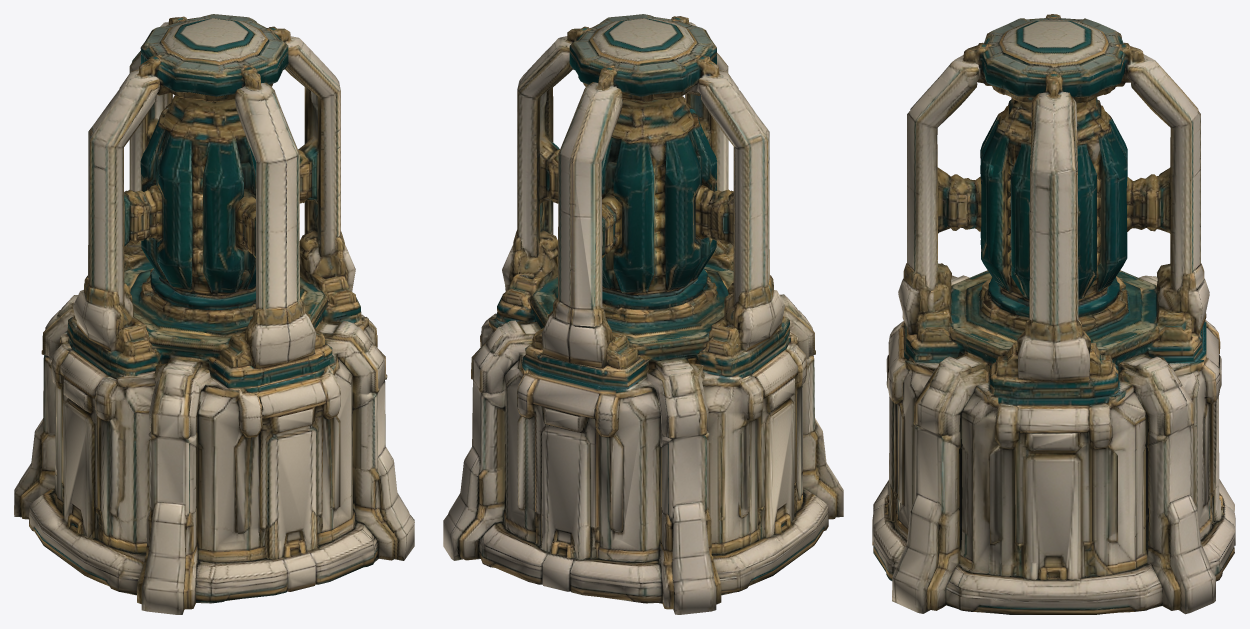
The model's file is reliquary.glb.
3 views of the same model, side by side, from view 1: azimuth 30°, elevation 25°; view 2: azimuth 150°, elevation 25°; view 3: azimuth 270°, elevation 25° (orthographic). The views are drawn at different scales.
Parts seen in each view (by area): view 1: mesh_node; view 2: mesh_node; view 3: mesh_node.
Boxes of the visible parts, x1=… form: mesh_node: x1=14, y1=14, x2=414, y2=614; mesh_node: x1=443, y1=14, x2=843, y2=614; mesh_node: x1=872, y1=14, x2=1235, y2=614.
Size of the model in its own units: 1.28 by 2 by 1.29.
Materials: 1 (1 with a texture image).
